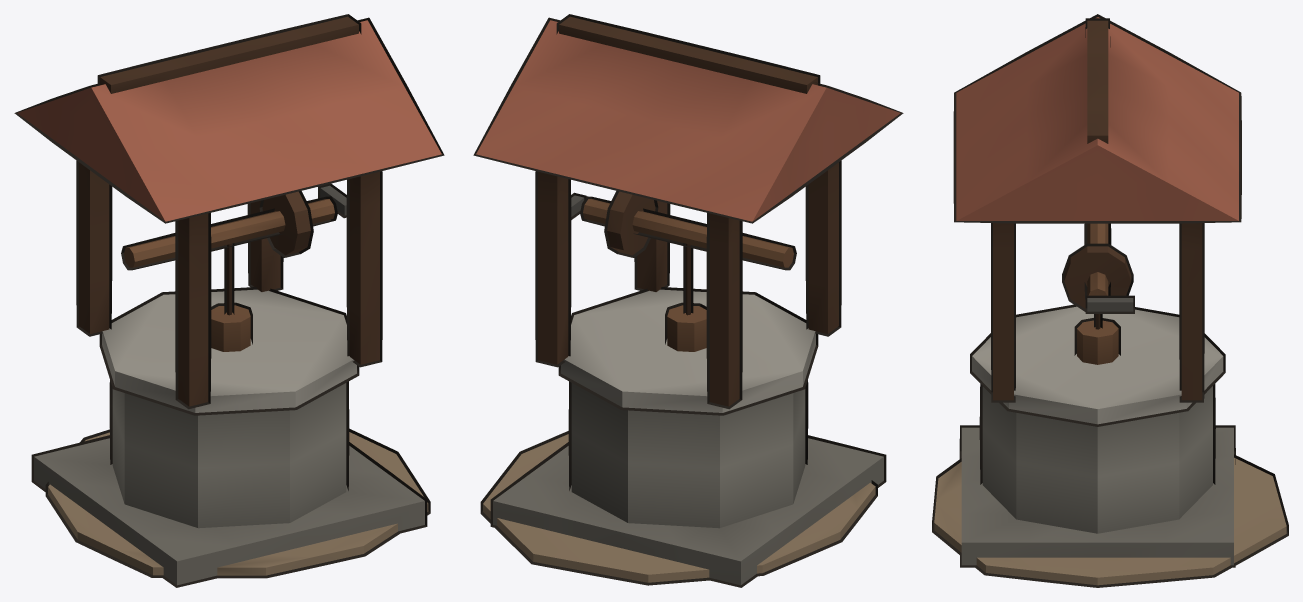
File: puits_couvert.glb
3 renders of one model, left to right at view 1: azimuth 30°, elevation 25°; view 2: azimuth 150°, elevation 25°; view 3: azimuth 270°, elevation 25°, orthographic. The views are drawn at different scales.
Parts seen in each view (by area): view 1: puits_couvert, puits_couvert_outline; view 2: puits_couvert, puits_couvert_outline; view 3: puits_couvert, puits_couvert_outline.
Boxes of the visible parts, x1,y1,x2,y2 form: puits_couvert: (17,16,441,585); puits_couvert_outline: (14,14,444,587); puits_couvert: (476,16,900,585); puits_couvert_outline: (473,14,903,587); puits_couvert: (934,17,1286,585); puits_couvert_outline: (932,14,1288,587).
Size of the model in its own units: 1.69 by 2.29 by 1.7.
